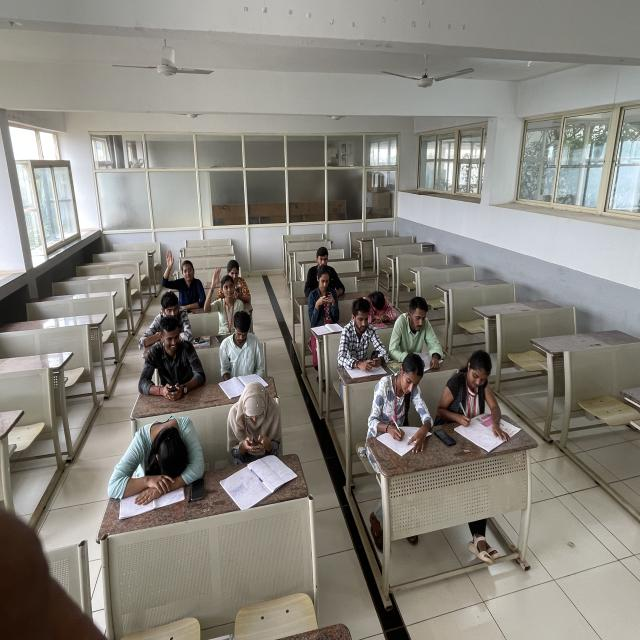Hand Rising: (204, 265, 240, 334), (163, 250, 203, 307)
Sleeping: (106, 417, 209, 506), (368, 290, 398, 326)
Using Phone: (138, 312, 208, 398), (224, 378, 286, 464), (338, 296, 389, 371), (220, 310, 264, 380), (307, 264, 339, 327)
Writing: (368, 352, 436, 455), (439, 348, 506, 440), (393, 296, 443, 367)
